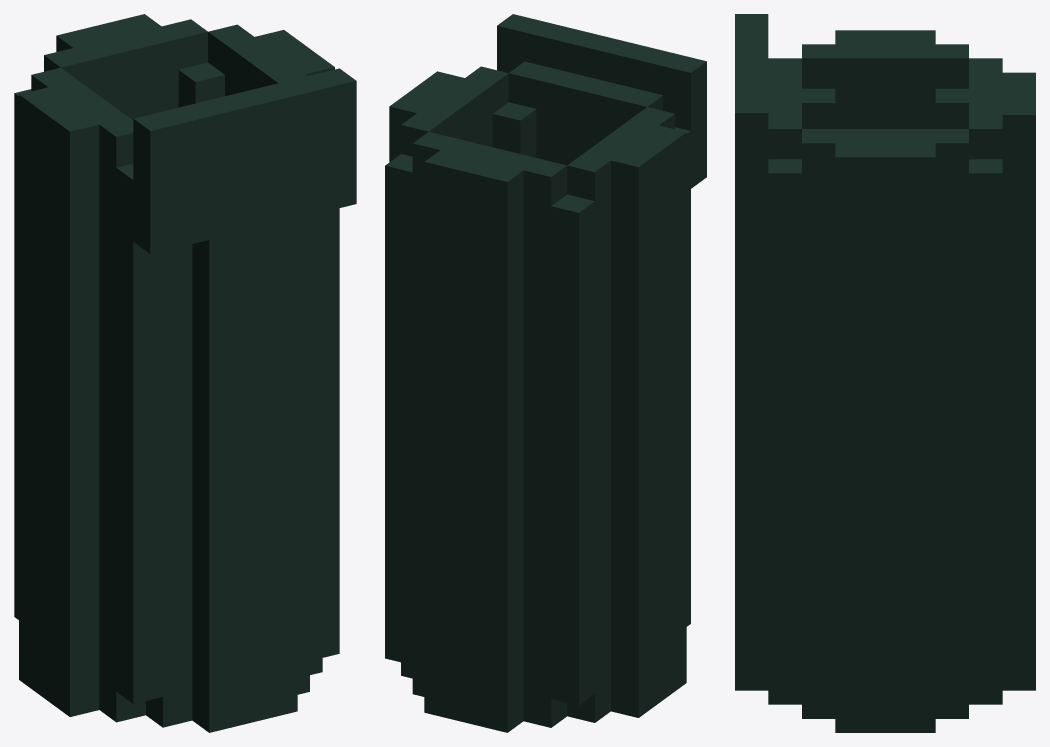
The model's file is mystic_common_leg_L_lod1.glb.
3 renders of one model, left to right at view 1: azimuth 30°, elevation 25°; view 2: azimuth 150°, elevation 25°; view 3: azimuth 270°, elevation 25°, orthographic. The views are drawn at different scales.
Parts seen in each view (by area): view 1: mystic_common_leg_L_lod1; view 2: mystic_common_leg_L_lod1; view 3: mystic_common_leg_L_lod1.
Part boxes in pixels (x1,y1,x2,y2): mystic_common_leg_L_lod1: (14,14,356,732); mystic_common_leg_L_lod1: (385,14,706,732); mystic_common_leg_L_lod1: (735,14,1035,732).
Size of the model in its own units: 0.216 by 0.48 by 0.216.
